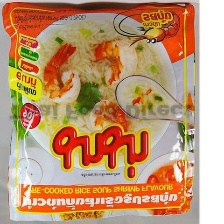snack: (0, 0, 198, 224)
